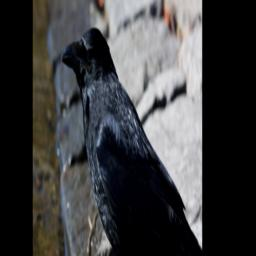Crow: (59, 25, 201, 256)
